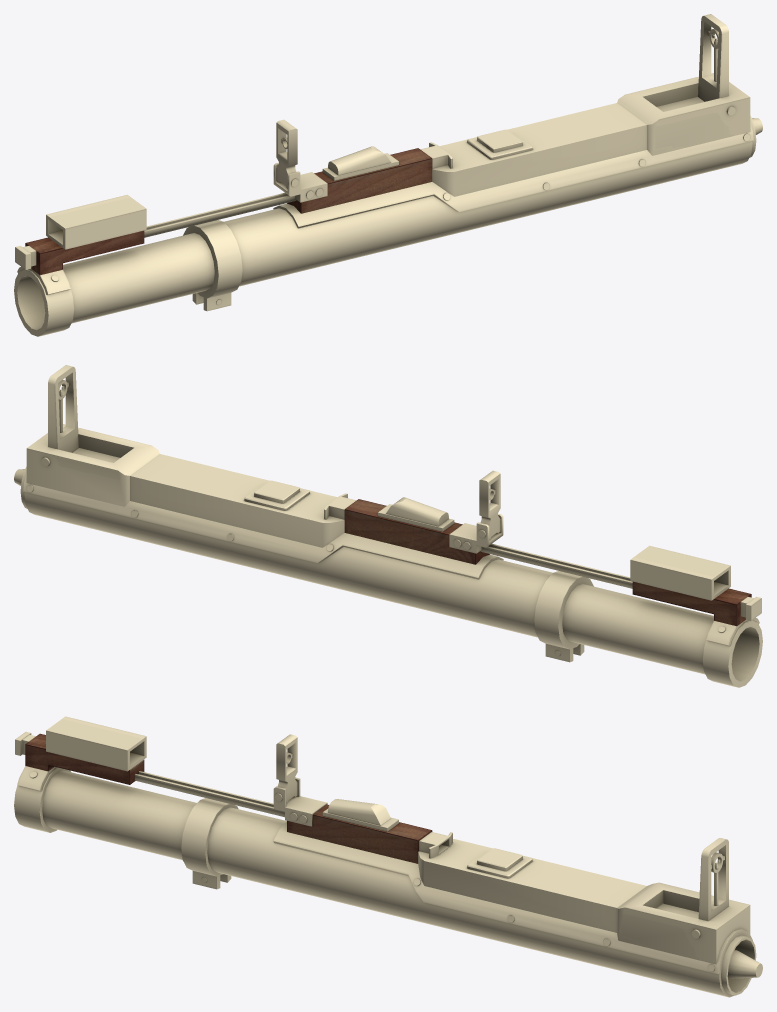
Rendered from weapon_9_4.gltf.
3 renders of one model, top to bottom at view 1: azimuth 30°, elevation 25°; view 2: azimuth 150°, elevation 25°; view 3: azimuth 330°, elevation 25°, orthographic.
Parts seen in each view (by area): view 1: weapon_9_lol; view 2: weapon_9_lol; view 3: weapon_9_lol.
Boxes of the visible parts, bbox=[...] form: weapon_9_lol: bbox=[14, 14, 762, 336]; weapon_9_lol: bbox=[14, 365, 762, 687]; weapon_9_lol: bbox=[14, 716, 762, 997].
Size of the model in its own units: 9949 by 2075 by 875.
Materials: 1 (1 with a texture image).
